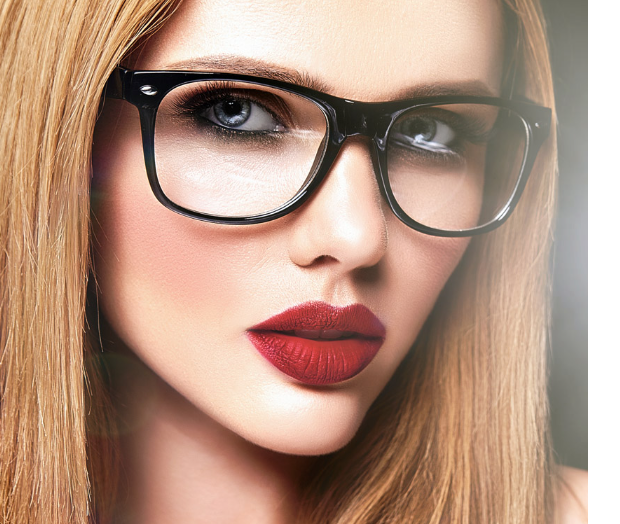glass: (102, 51, 556, 235)
mouth: (241, 292, 402, 392)
